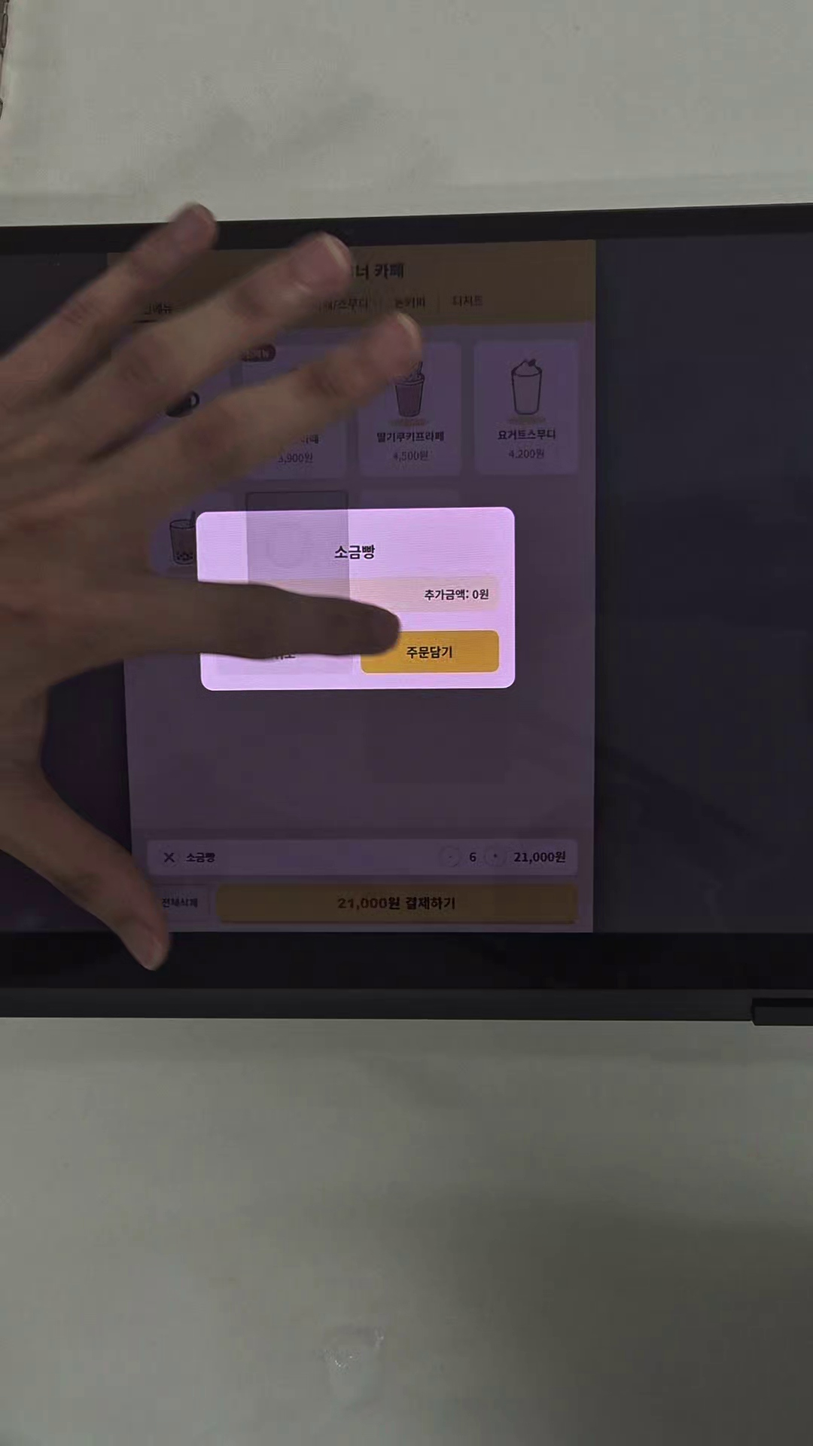action_button: (362, 631, 503, 673)
popup_modal: (195, 508, 518, 689)
